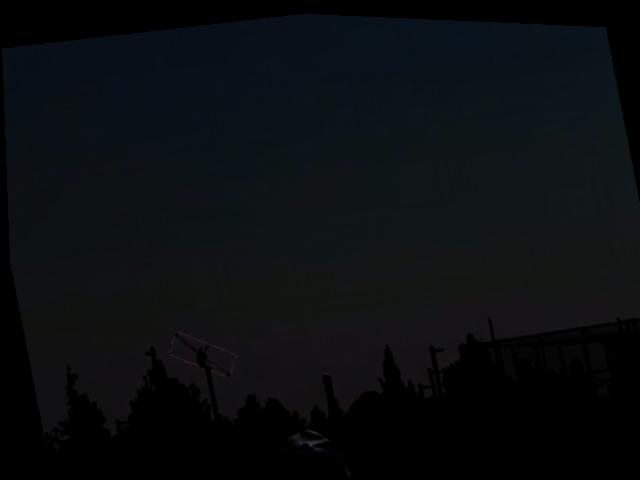insansiz-hava-araci: (163, 327, 235, 378)
